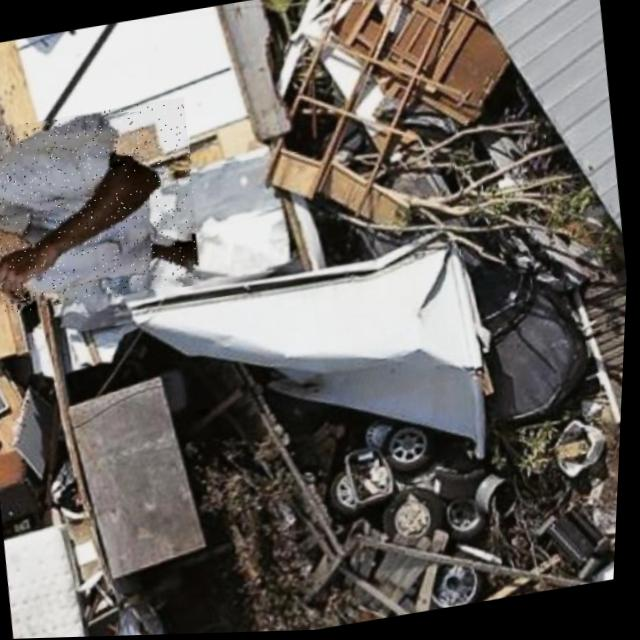Person in Rubble: (0, 96, 210, 317)
